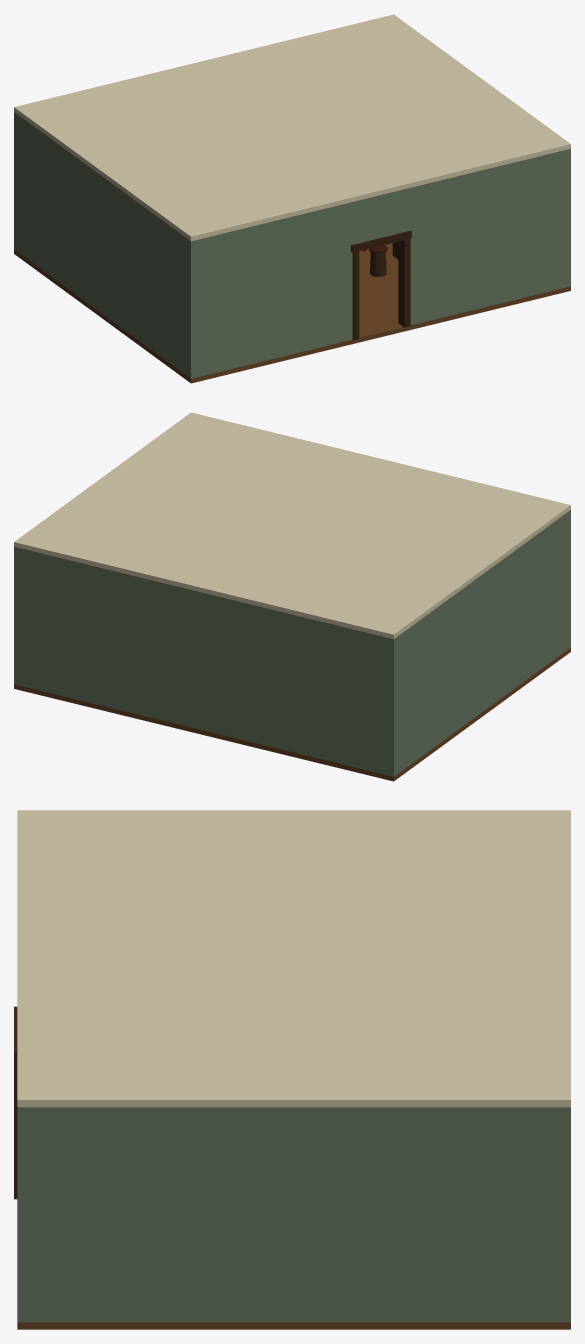
The model's file is drafting_room.glb.
The picture shows the model from 3 angles, top to bottom: view 1: azimuth 30°, elevation 25°; view 2: azimuth 150°, elevation 25°; view 3: azimuth 270°, elevation 25°; orthographic projection. The views are drawn at different scales.
Parts seen in each view (by area): view 1: DraftingRoom-col, DraftingTable-col; view 2: DraftingRoom-col; view 3: DraftingRoom-col.
Part boxes in pixels (x1,y1,x2,y2): DraftingRoom-col: (14,14,570,383); DraftingTable-col: (363,241,398,276); DraftingRoom-col: (14,412,570,781); DraftingRoom-col: (14,810,570,1329).
Size of the model in its own units: 10.4 by 3.84 by 8.45.
